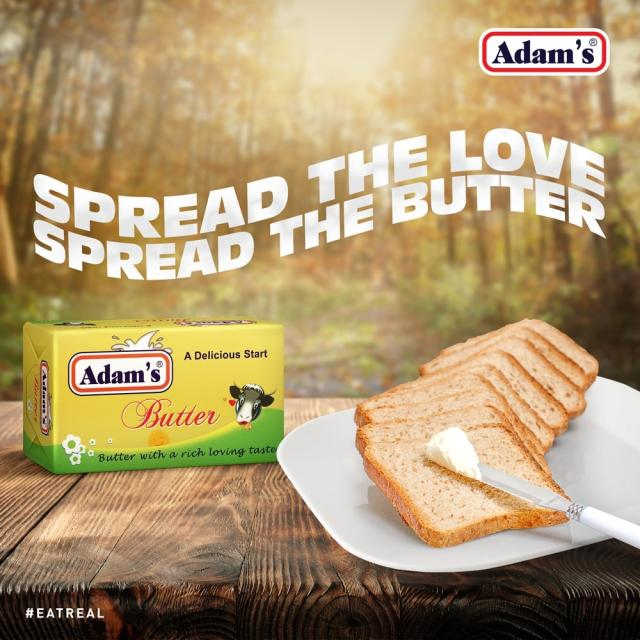butter: (22, 317, 285, 474)
